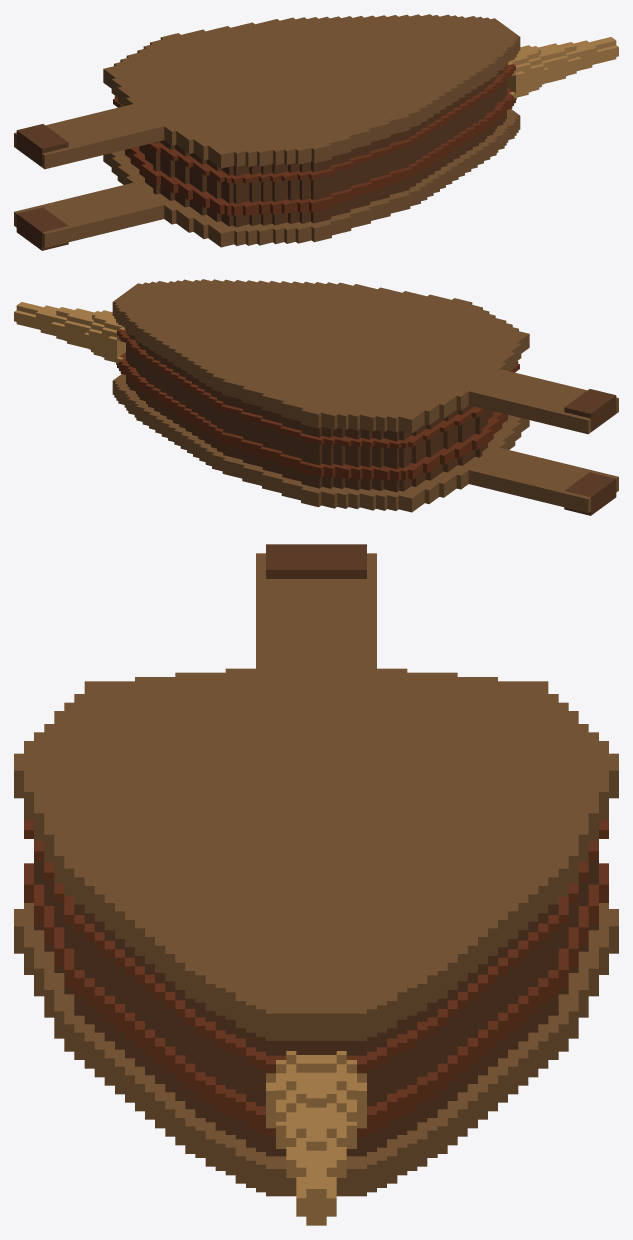
Rendered from leather_bellow.glb.
3 views of the same model, one above another, from view 1: azimuth 30°, elevation 25°; view 2: azimuth 150°, elevation 25°; view 3: azimuth 270°, elevation 25° (orthographic). The views are drawn at different scales.
Parts seen in each view (by area): view 1: leather_bellow:compound; view 2: leather_bellow:compound; view 3: leather_bellow:compound.
Boxes of the visible parts, x1,y1,x2,y2 form: leather_bellow:compound: [14, 14, 618, 250]; leather_bellow:compound: [14, 279, 618, 515]; leather_bellow:compound: [14, 544, 618, 1225].
Size of the model in its own units: 0.528 by 0.088 by 0.24.
